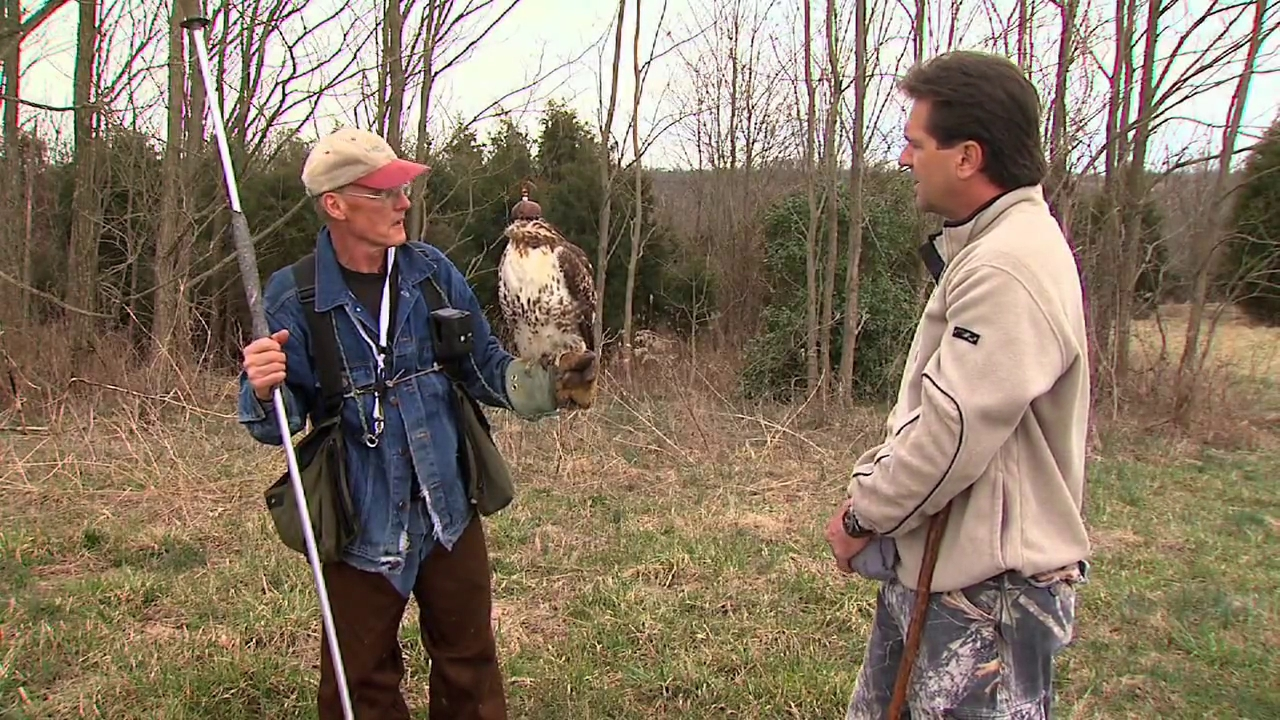person: (238, 128, 598, 718), (823, 50, 1093, 719)
